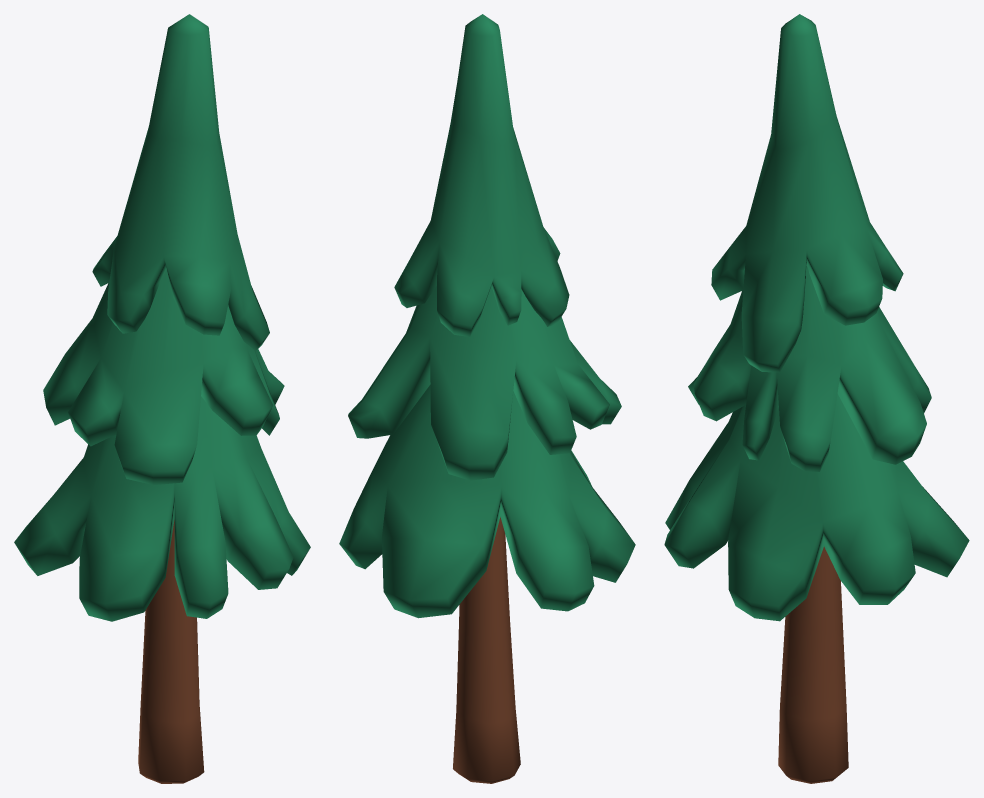
File: Pine_06_LOD2.gltf
3 views of the same model, side by side, from view 1: azimuth 30°, elevation 25°; view 2: azimuth 150°, elevation 25°; view 3: azimuth 270°, elevation 25° (orthographic).
Visible parts, largest first — view 1: Pine_06_LOD2_Cylinder.789; view 2: Pine_06_LOD2_Cylinder.789; view 3: Pine_06_LOD2_Cylinder.789.
Part boxes in pixels (left/top/right/bottom): Pine_06_LOD2_Cylinder.789: left=14, top=14, right=310, bottom=783; Pine_06_LOD2_Cylinder.789: left=339, top=14, right=635, bottom=783; Pine_06_LOD2_Cylinder.789: left=664, top=14, right=969, bottom=783.
Size of the model in its own units: 4.49 by 13.7 by 4.96.
1 material, 1 textured.
